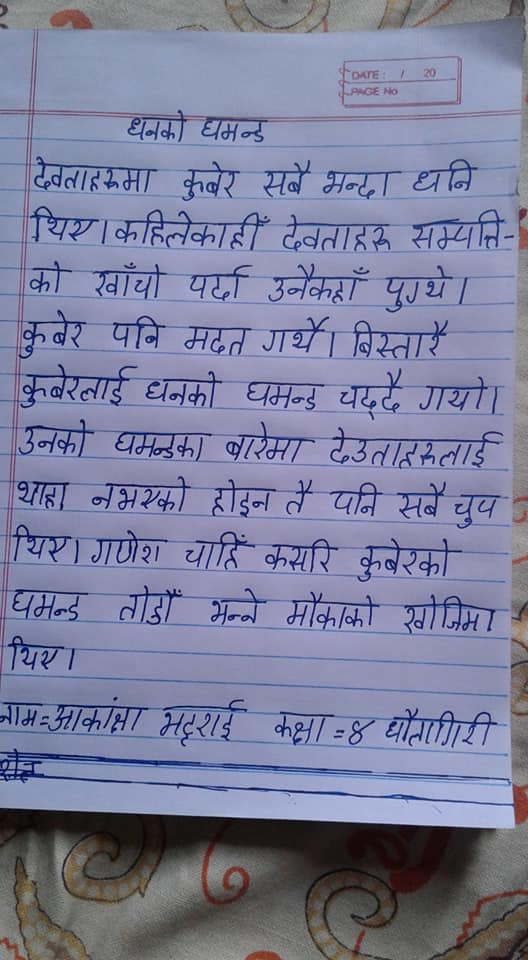text: (327, 429, 501, 469), (114, 208, 272, 251), (30, 153, 156, 195), (16, 365, 139, 408), (356, 536, 461, 584), (281, 211, 393, 253), (385, 708, 499, 748), (265, 263, 369, 306), (225, 419, 313, 469), (157, 695, 243, 745), (402, 592, 498, 635), (285, 590, 383, 632), (346, 319, 448, 358), (50, 698, 151, 737), (409, 209, 504, 250), (90, 474, 190, 511), (18, 310, 87, 361), (336, 369, 407, 418), (15, 417, 97, 459), (115, 428, 211, 463), (385, 265, 453, 313), (6, 587, 91, 625), (183, 531, 259, 573), (90, 529, 169, 568), (91, 261, 169, 300), (243, 376, 327, 412), (6, 521, 72, 566), (416, 374, 490, 413), (30, 203, 97, 246), (115, 584, 182, 627), (264, 538, 338, 576), (262, 315, 330, 356), (209, 477, 277, 518), (147, 371, 222, 408), (186, 262, 253, 302), (322, 166, 398, 201), (180, 159, 239, 204), (273, 708, 335, 748), (182, 323, 252, 358), (124, 107, 190, 144), (411, 158, 478, 194), (199, 113, 269, 147), (6, 634, 66, 673), (207, 587, 266, 625), (109, 316, 170, 352), (260, 158, 313, 198), (330, 481, 383, 521), (12, 478, 72, 513), (393, 482, 449, 519), (453, 489, 501, 530), (26, 258, 74, 297), (283, 478, 317, 518), (1, 699, 42, 729), (346, 717, 378, 747)
